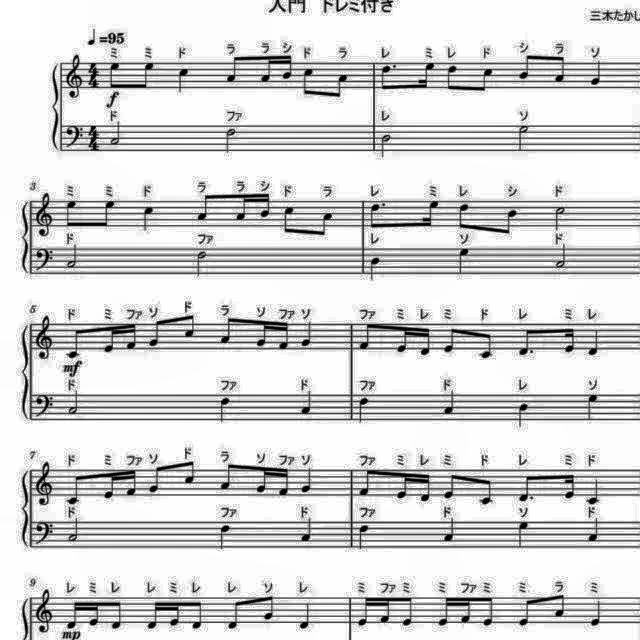Bass-clef: (30, 392, 54, 422), (30, 248, 54, 276), (63, 122, 85, 152), (33, 519, 56, 547)
Eighth-note: (64, 471, 86, 509), (496, 205, 520, 239), (514, 471, 538, 505), (314, 210, 338, 242), (64, 324, 85, 360), (331, 72, 354, 104), (515, 326, 537, 359), (514, 592, 534, 628), (226, 596, 246, 632), (98, 197, 119, 231), (476, 66, 498, 98), (196, 192, 217, 225), (477, 331, 497, 364), (107, 596, 125, 632), (454, 200, 474, 232), (442, 470, 462, 502), (514, 52, 534, 84), (378, 60, 398, 92), (477, 476, 497, 508), (62, 198, 82, 230), (222, 54, 242, 86), (146, 320, 166, 352), (368, 198, 388, 230), (146, 467, 166, 498), (298, 65, 316, 99), (188, 596, 205, 632), (217, 317, 236, 349), (138, 59, 156, 92), (399, 594, 416, 628), (280, 204, 298, 236), (443, 326, 461, 358), (444, 62, 462, 94), (551, 54, 569, 86), (261, 592, 279, 624), (356, 466, 374, 498), (356, 320, 374, 352), (217, 464, 236, 494), (482, 594, 498, 628), (551, 590, 569, 620), (183, 460, 201, 490), (183, 313, 201, 343), (108, 60, 124, 92)
Half-note: (513, 122, 531, 154), (222, 126, 242, 154), (193, 251, 211, 281), (551, 203, 569, 231), (378, 131, 394, 161), (66, 388, 82, 417), (108, 120, 124, 148), (66, 242, 82, 270), (554, 244, 570, 272), (66, 516, 82, 544)
Quarter-note: (454, 246, 474, 278), (174, 64, 193, 96), (585, 477, 605, 507), (295, 600, 313, 632), (588, 597, 606, 629), (586, 516, 606, 544), (296, 516, 316, 544), (588, 58, 606, 88), (139, 203, 157, 233), (584, 392, 602, 422), (515, 519, 533, 549), (585, 328, 603, 358), (443, 389, 461, 418), (296, 389, 314, 418), (442, 516, 460, 544), (299, 320, 317, 348), (354, 522, 372, 550), (300, 465, 316, 495), (368, 253, 384, 283), (215, 522, 232, 550), (216, 393, 232, 422), (516, 400, 532, 428), (356, 398, 372, 426)
Sixteenth-note: (418, 198, 442, 230), (418, 59, 438, 92), (143, 596, 161, 632), (436, 592, 452, 628), (356, 595, 372, 631), (418, 470, 434, 506), (101, 470, 119, 502), (258, 54, 276, 86), (101, 324, 119, 356), (63, 598, 81, 630), (85, 600, 103, 632), (393, 468, 411, 500), (233, 193, 251, 224), (254, 465, 272, 495), (124, 468, 140, 500), (418, 326, 434, 358), (124, 322, 140, 354), (378, 594, 394, 626), (460, 596, 476, 628), (277, 466, 293, 498), (562, 471, 578, 502), (256, 192, 272, 222), (256, 322, 272, 352), (168, 600, 184, 630), (396, 327, 412, 357), (562, 324, 578, 354), (277, 323, 293, 353), (279, 54, 295, 82)
Treble-clef: (31, 460, 55, 510), (33, 314, 57, 362), (33, 586, 57, 634), (64, 51, 86, 100), (34, 190, 56, 238)
